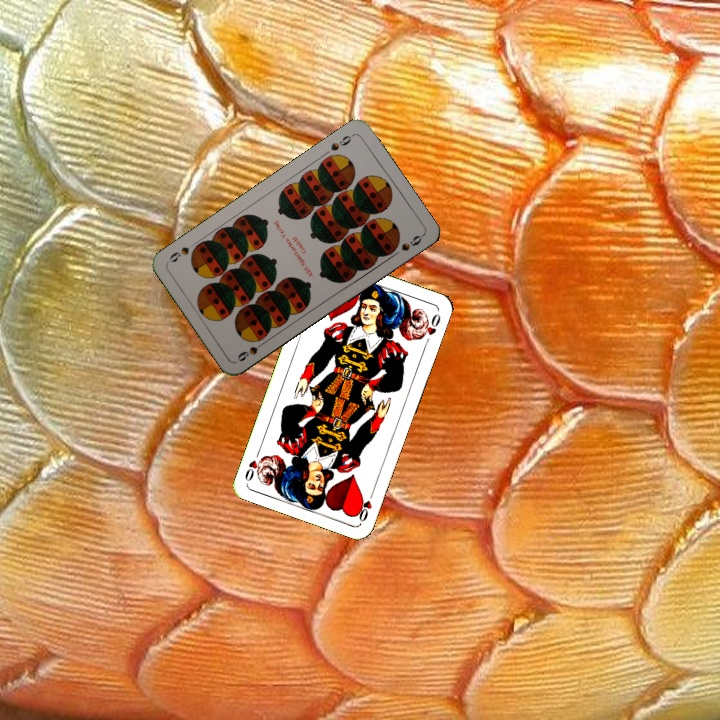HO: (353, 485, 377, 524)
S9: (233, 337, 269, 364), (327, 130, 356, 154)
